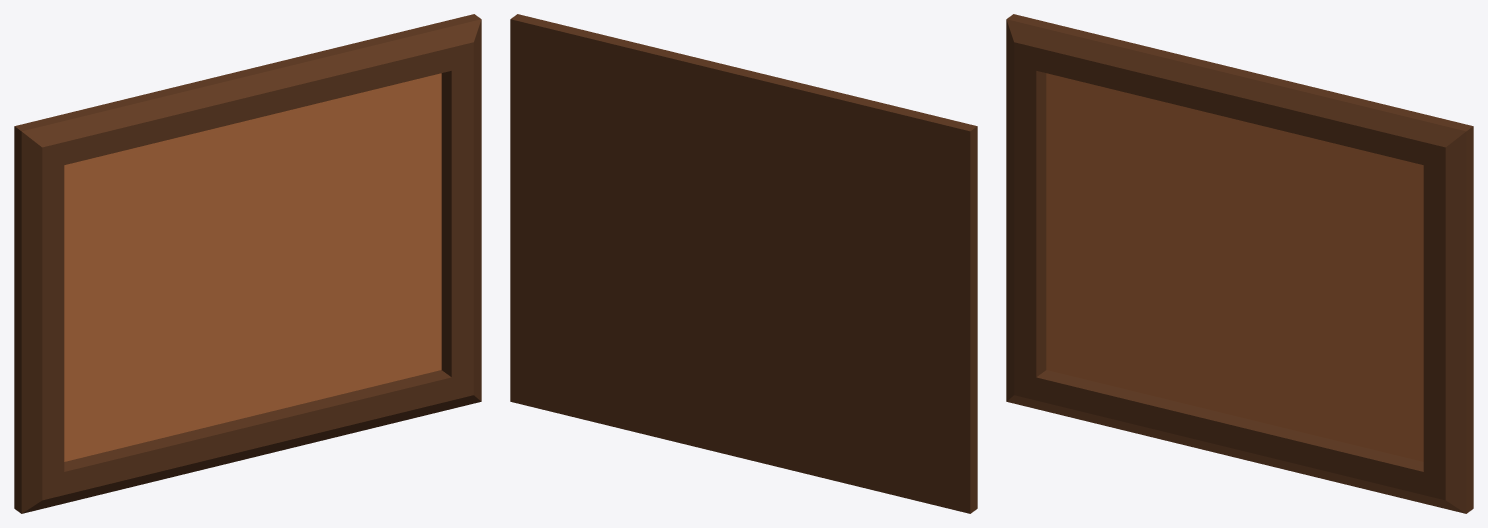
Rendered from pinboard_01_mockup.fbx.
3 renders of one model, left to right at view 1: azimuth 30°, elevation 25°; view 2: azimuth 150°, elevation 25°; view 3: azimuth 330°, elevation 25°, orthographic.
Parts seen in each view (by area): view 1: Plane; view 2: Plane; view 3: Plane.
Part boxes in pixels (<box>): Plane: <box>14,14,481,513</box>; Plane: <box>510,14,977,513</box>; Plane: <box>1006,14,1473,513</box>.
Size of the model in its own units: 1.28 by 0.0654 by 1.02.
